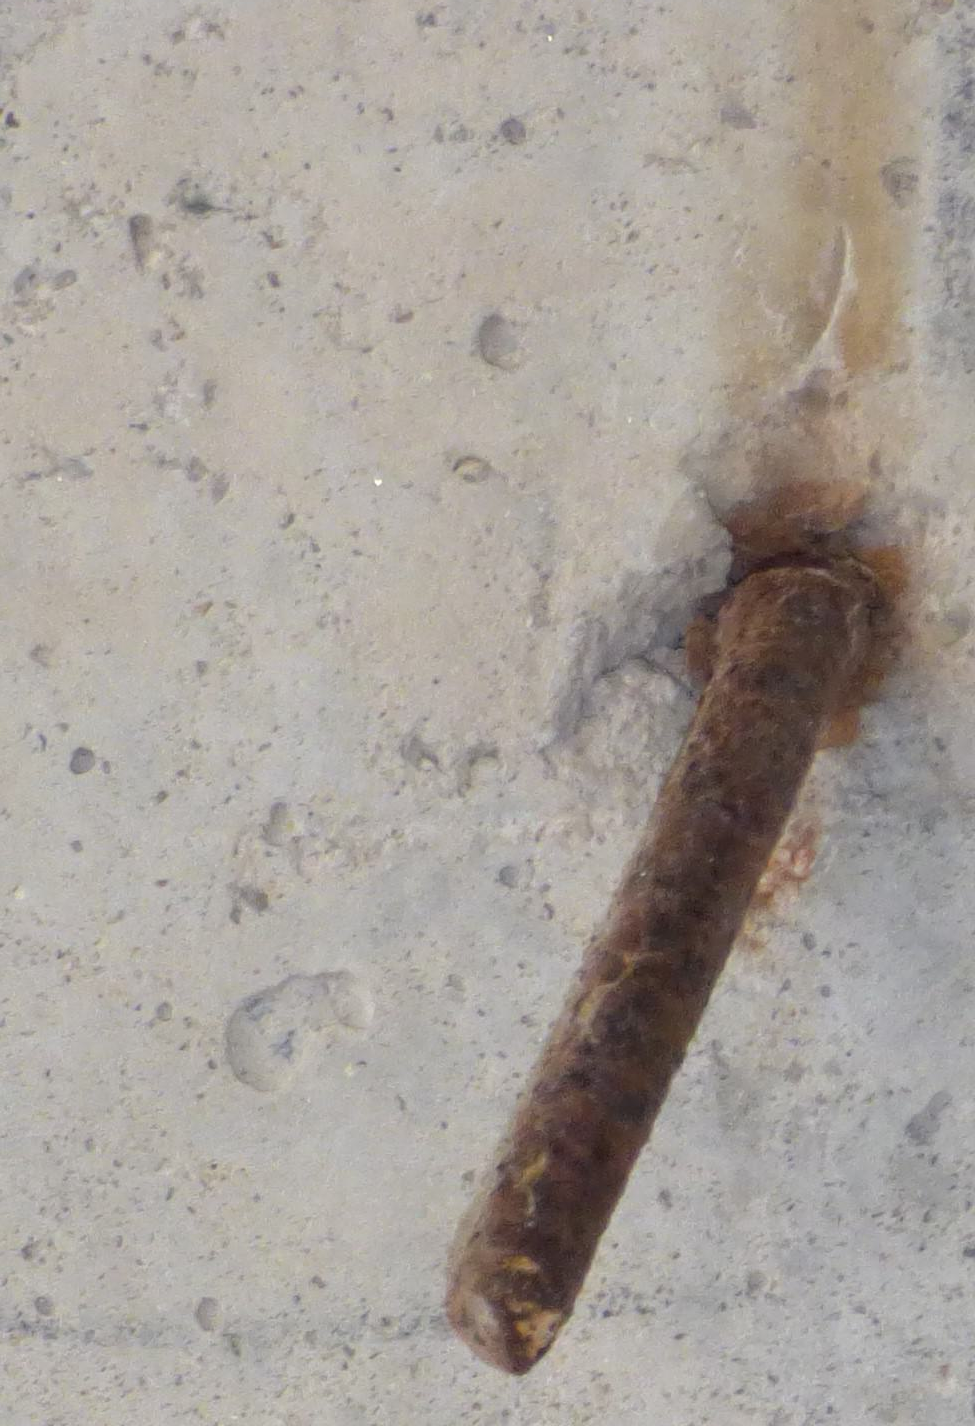Exposed reinforcement: (441, 565, 871, 1378)
